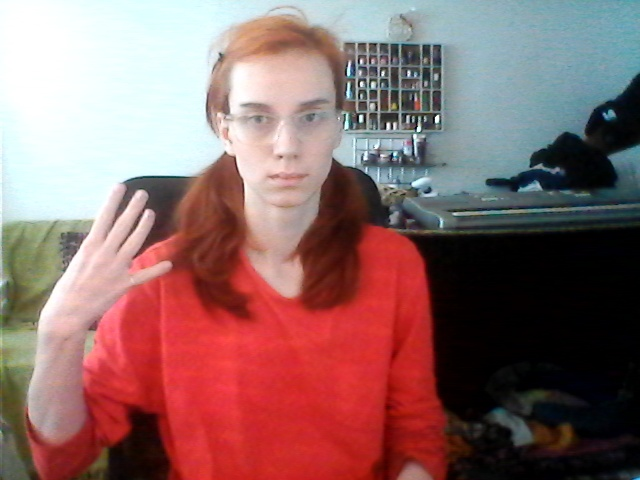styri: (38, 179, 180, 325)
